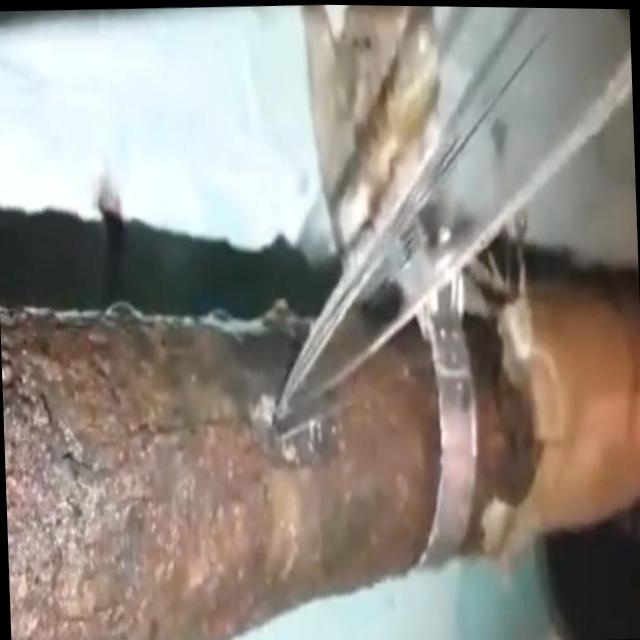leak: (275, 7, 631, 477)
